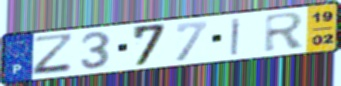3: (79, 29, 115, 71)
7: (130, 22, 169, 68), (175, 19, 211, 63)
I: (229, 16, 243, 57)
R: (263, 11, 308, 54)
Z: (31, 32, 77, 77)
